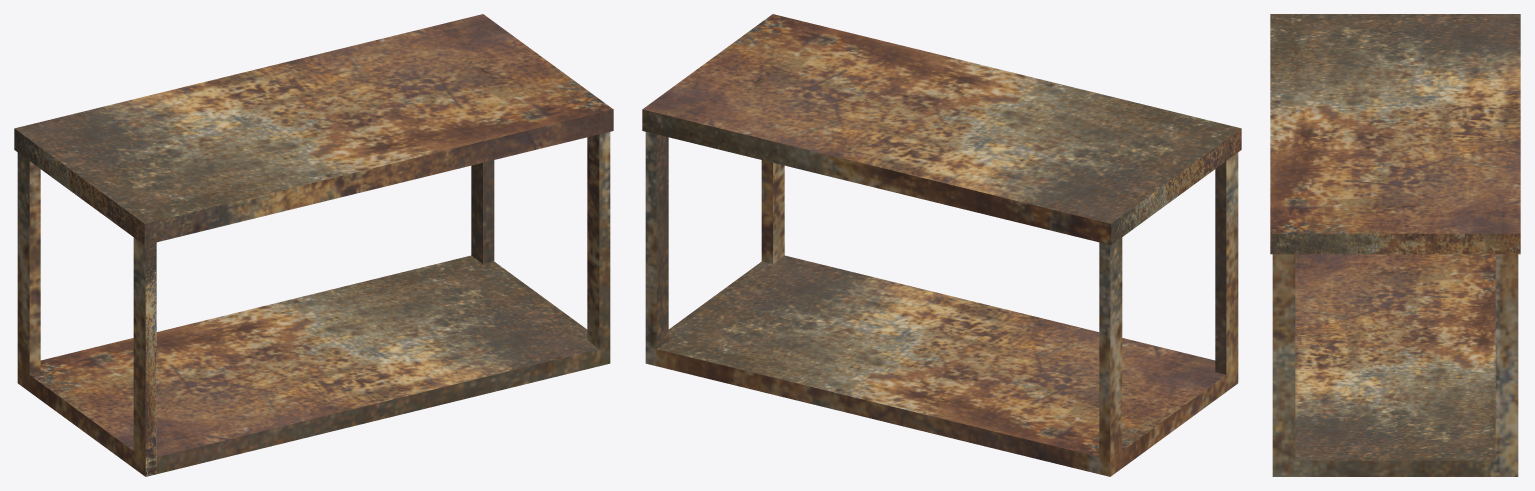
Rendered from snuff_table.FBX.
3 views of the same model, side by side, from view 1: azimuth 30°, elevation 25°; view 2: azimuth 150°, elevation 25°; view 3: azimuth 270°, elevation 25° (orthographic). The views are drawn at different scales.
Parts seen in each view (by area): view 1: snuff_table; view 2: snuff_table; view 3: snuff_table.
Part boxes in pixels (box(x1,y1,x2,y2)): snuff_table: box(14, 14, 613, 476); snuff_table: box(642, 14, 1241, 476); snuff_table: box(1270, 14, 1520, 476).
Size of the model in its own units: 157 by 81.54 by 75.77.
